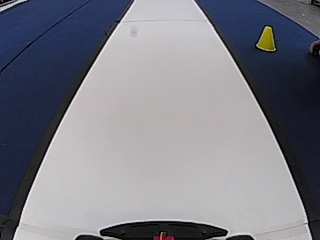cone: (256, 25, 276, 51)
